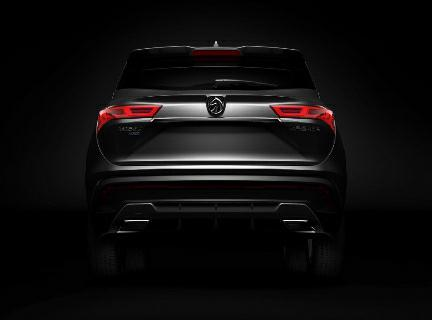宝骏-530: (80, 30, 354, 254)
